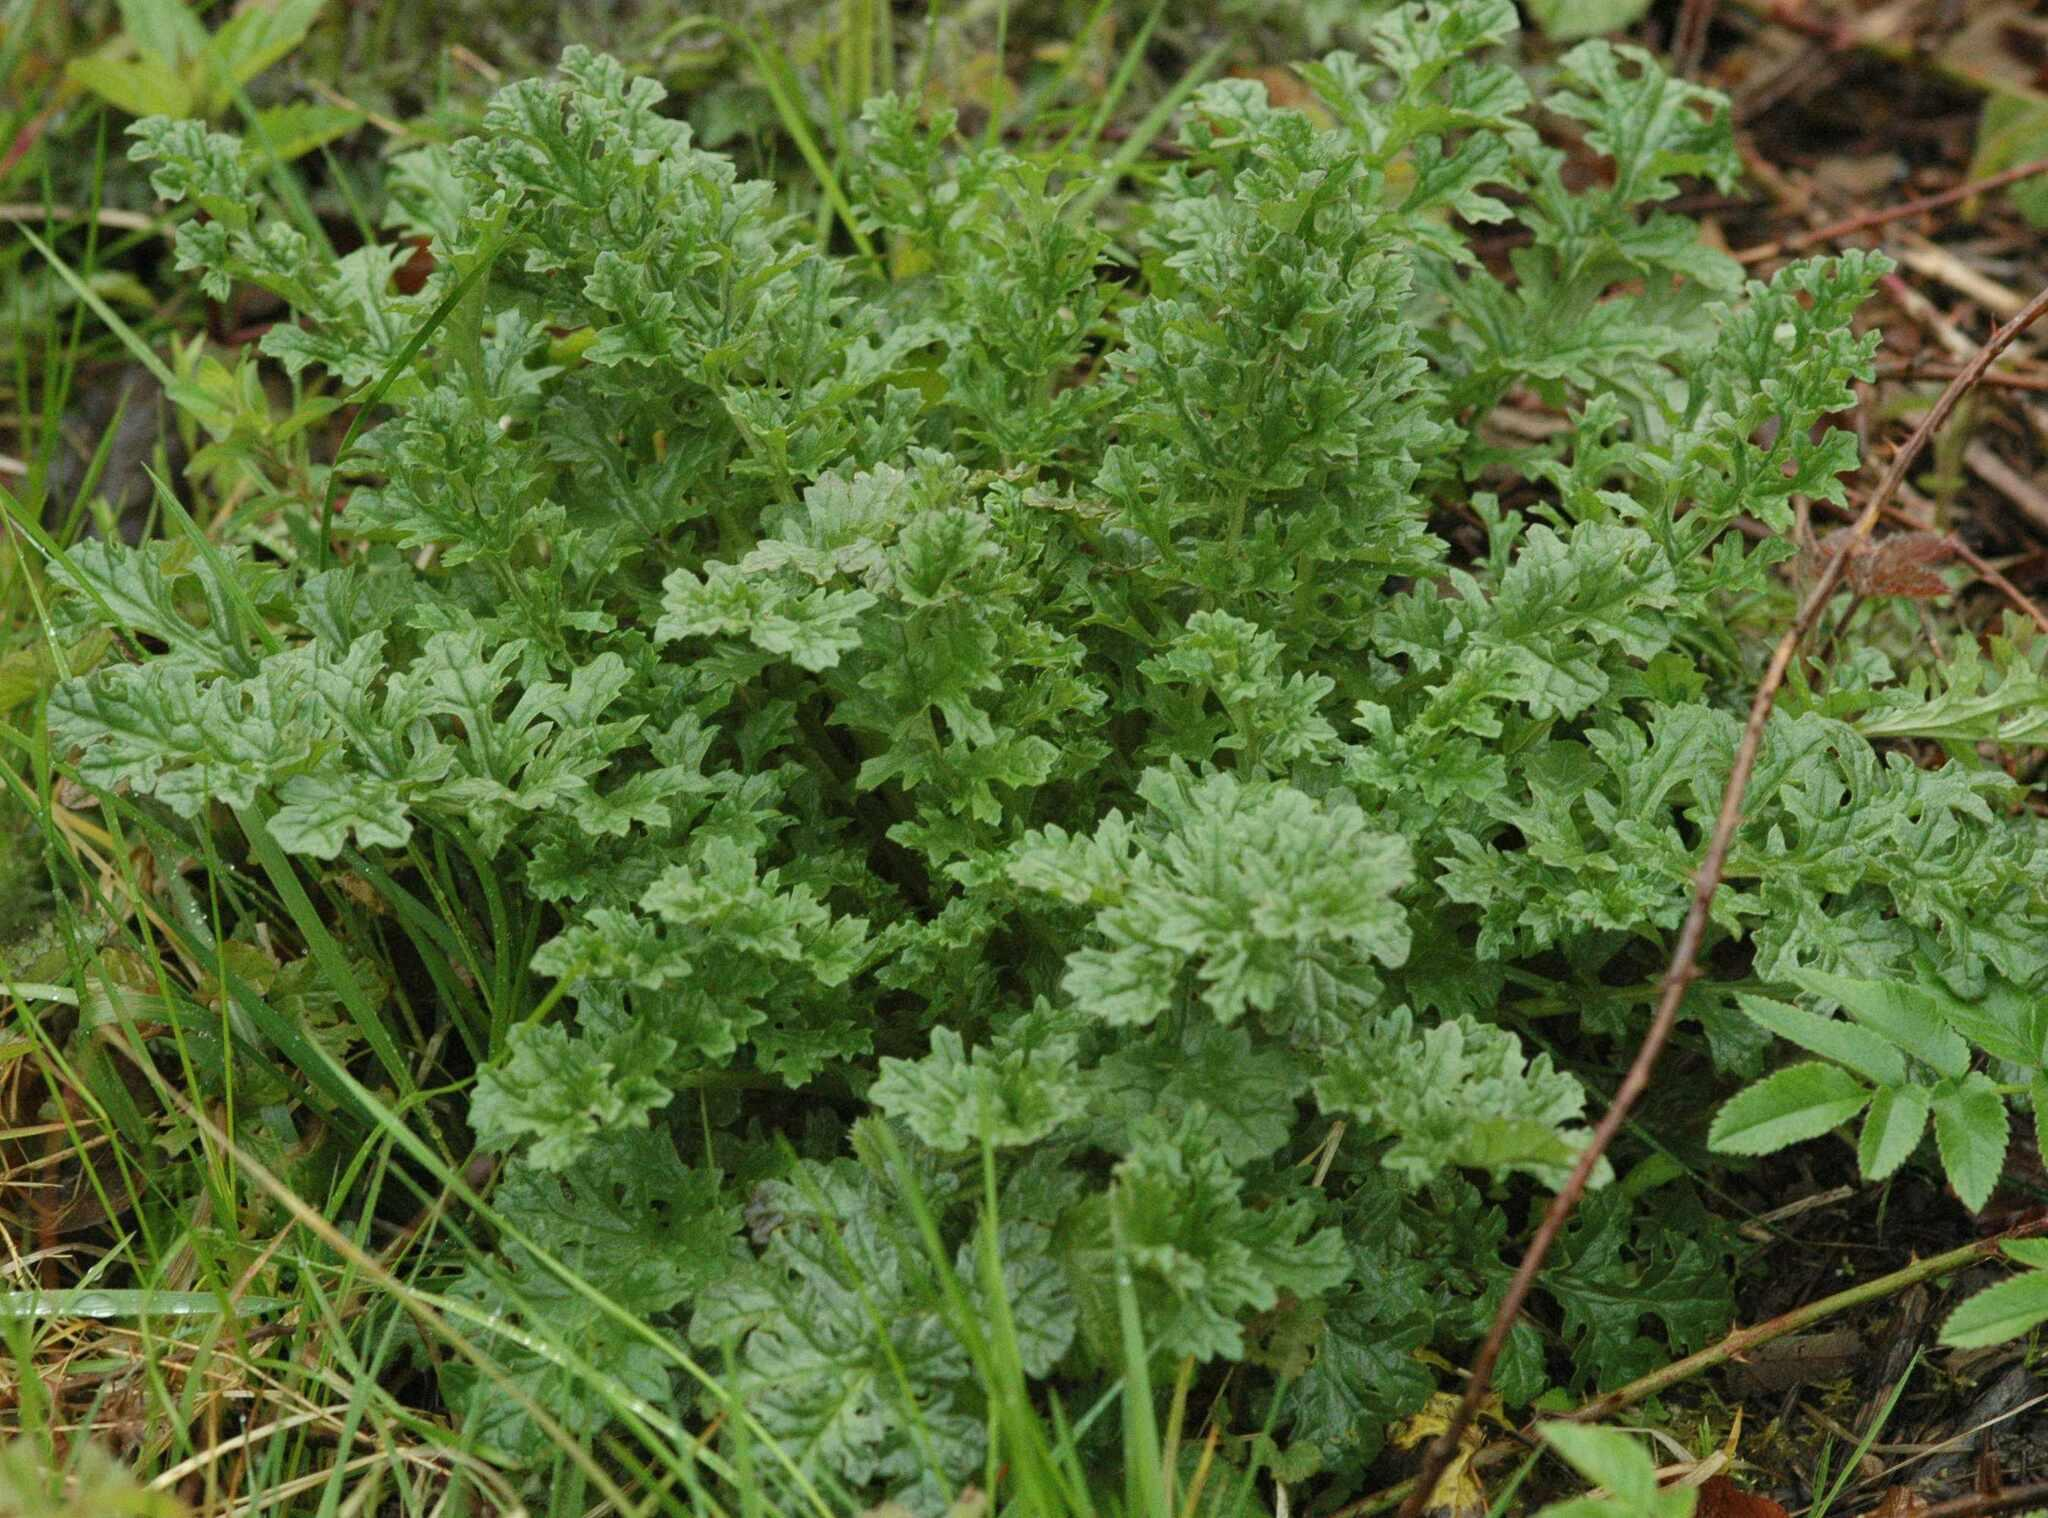Jacobaea vulgaris: (37, 40, 1956, 1328)
